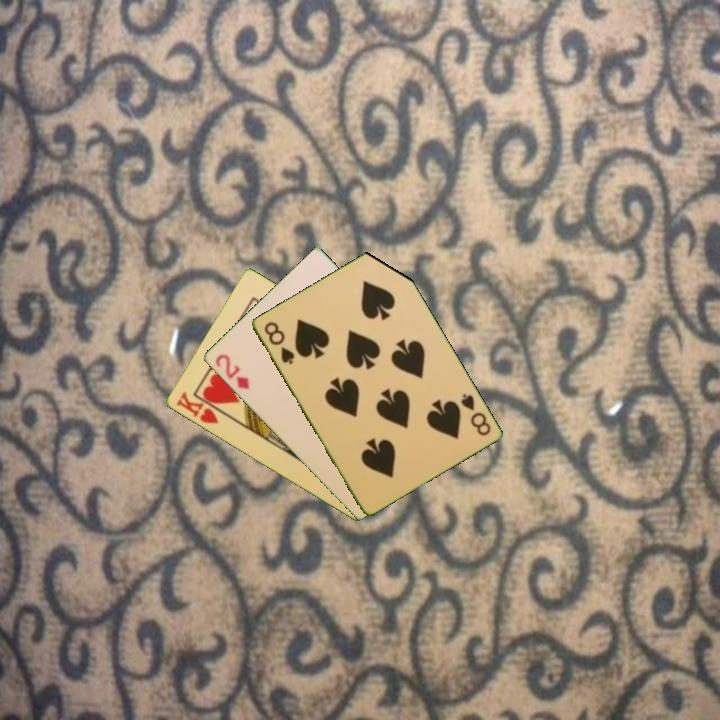2d: (211, 350, 252, 392)
8s: (260, 318, 297, 367), (457, 390, 493, 439)
Kh: (172, 388, 228, 427)
